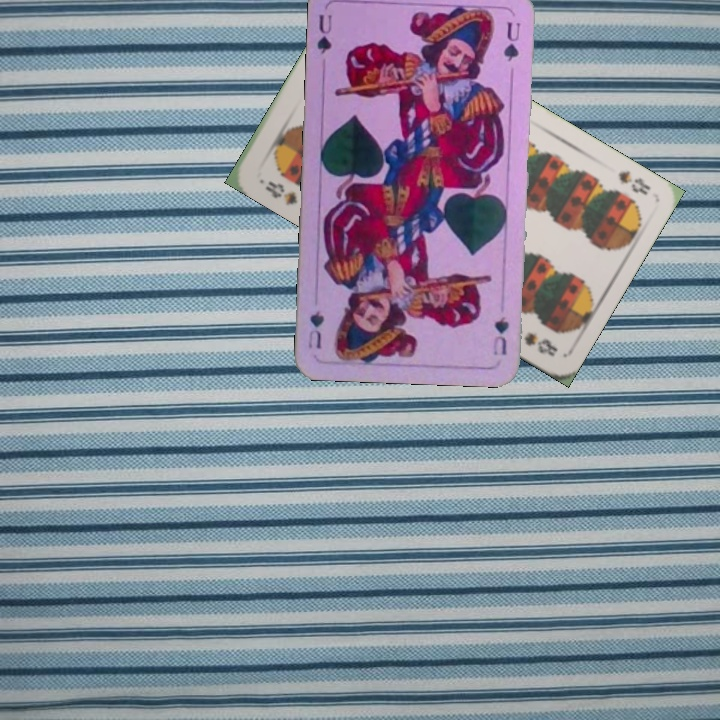GU: (313, 10, 335, 57), (489, 312, 511, 358)
S8: (614, 166, 653, 198), (260, 177, 300, 208)
